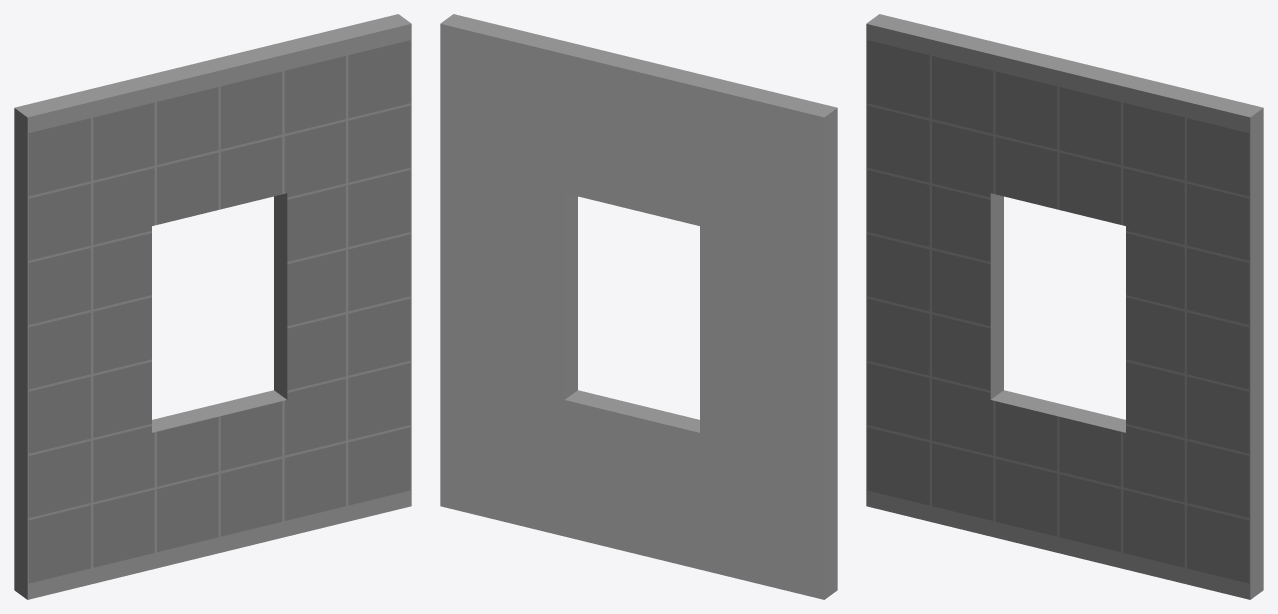
File: Wall1_C7_03.fbx
The picture shows the model from 3 angles, left to right: view 1: azimuth 30°, elevation 25°; view 2: azimuth 150°, elevation 25°; view 3: azimuth 330°, elevation 25°; orthographic projection.
Visible parts, largest first — view 1: Wall1_C7_03; view 2: Wall1_C7_03; view 3: Wall1_C7_03.
Boxes of the visible parts, box(x1,y1,x2,y2) form: Wall1_C7_03: box(14, 14, 411, 599); Wall1_C7_03: box(440, 14, 837, 599); Wall1_C7_03: box(866, 14, 1263, 599).
Size of the model in its own units: 250 by 300 by 15.
